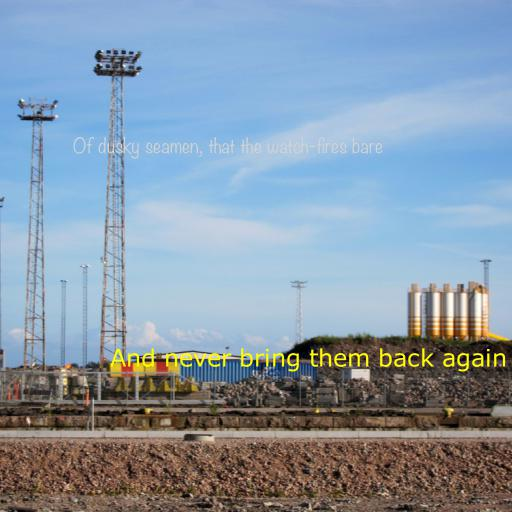Noteworthy: (73, 136, 383, 159)
Verdana: (109, 348, 507, 372)
